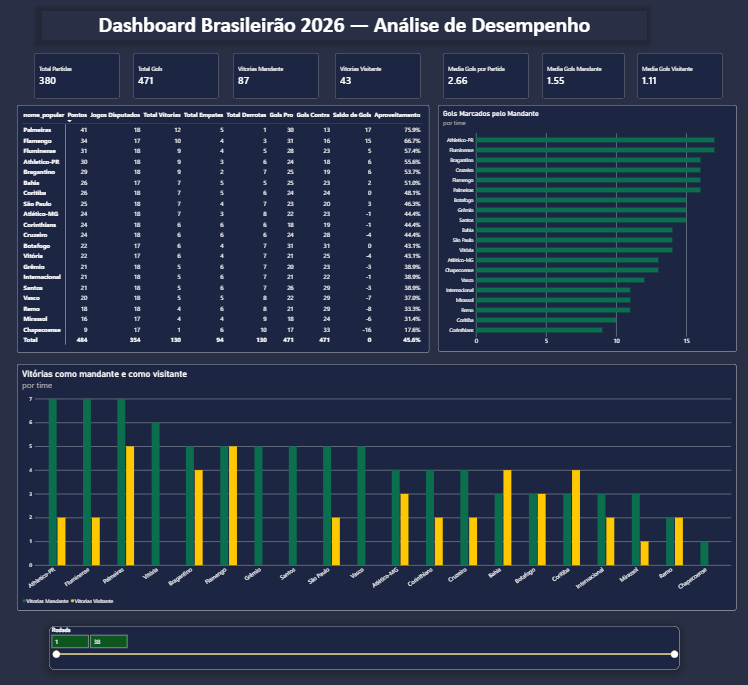

This screenshot's page, from the dashboard's own definition file:
{"tool":"powerbi","page":{"name":"Visão Geral","canvas":[1920,1900],"ordinal":0},"visuals":[{"type":"cardVisual","fields":{"Data":["partidas.Total Partidas"]},"box":[145.9,160.5,197,125.5],"z":0},{"type":"cardVisual","fields":{"Data":["partidas.Total Gols"]},"box":[360.4,160.5,208.6,125.5],"z":1000},{"type":"cardVisual","fields":{"Data":["partidas.Vitorias Mandante"]},"box":[588,160.5,218.8,125.5],"z":2000},{"type":"clusteredColumnChart","fields":{"Category":["times.nome_popular"],"Y":["partidas.Vitorias Mandante","partidas.Vitorias Visitante"]},"box":[145,1163.3,783.3,551.7],"z":3000},{"type":"barChart","fields":{"Category":["times.nome_popular"],"Y":["partidas.Gols Marcados Mandante"]},"box":[946.7,1163.3,803.3,548.3],"z":4000},{"type":"slicer","fields":{"Values":["partidas.rodada"]},"box":[143.3,1730,1606.7,145],"z":5000},{"type":"textbox","box":[91.7,41.7,1721.7,98.3],"z":6000},{"type":"pivotTable","fields":{"Rows":["times.nome_popular"],"Values":["partidas.Pontos","partidas.Jogos Disputados","partidas.Total Vitorias","partidas.Total Empates","partidas.Total Derrotas","partidas.Gols Pro","partidas.Gols Contra","partidas.Saldo de Gols","partidas.Aproveitamento"]},"box":[264.1,311.3,1390.3,830.7],"z":7000},{"type":"cardVisual","fields":{"Data":["partidas.Vitorias Visitante"]},"box":[822.9,160.5,211.6,125.5],"z":8000},{"type":"cardVisual","fields":{"Data":["partidas.Media Gols por Partida"]},"box":[1050.5,160.5,220.3,126.9],"z":9000},{"type":"cardVisual","fields":{"Data":["partidas.Media Gols Mandante"]},"box":[1282.4,159,227.6,128.4],"z":10000},{"type":"cardVisual","fields":{"Data":["partidas.Media Gols Visitante"]},"box":[1527.5,160.5,221.8,131.3],"z":11000}]}

Visuals, with their boxes on the page's 1920x1900 design canvas (x1, y1, x2, y2). These are canvas units, not pixel positions in the 748x685 screenshot, which may show the page scaled, cropped or inside an application window:
cardVisual - partidas.Total Partidas: box=[146, 160, 343, 286]
cardVisual - partidas.Total Gols: box=[360, 160, 569, 286]
cardVisual - partidas.Vitorias Mandante: box=[588, 160, 807, 286]
clusteredColumnChart - times.nome_popular x partidas.Vitorias Mandante: box=[145, 1163, 928, 1715]
barChart - times.nome_popular x partidas.Gols Marcados Mandante: box=[947, 1163, 1750, 1712]
slicer - partidas.rodada: box=[143, 1730, 1750, 1875]
textbox: box=[92, 42, 1813, 140]
pivotTable - times.nome_popular x partidas.Pontos: box=[264, 311, 1654, 1142]
cardVisual - partidas.Vitorias Visitante: box=[823, 160, 1034, 286]
cardVisual - partidas.Media Gols por Partida: box=[1050, 160, 1271, 287]
cardVisual - partidas.Media Gols Mandante: box=[1282, 159, 1510, 287]
cardVisual - partidas.Media Gols Visitante: box=[1528, 160, 1749, 292]
